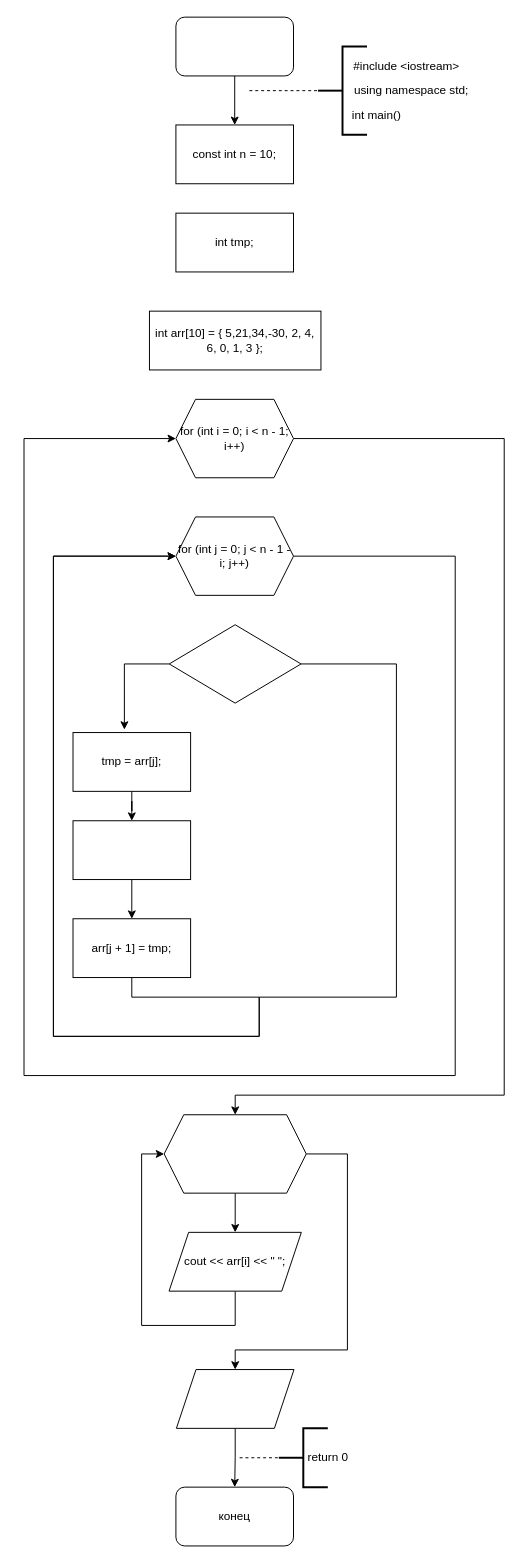
This 529x1563 diagram has some shape labels left out. Here are the shapes that lost their labels. From the top down, the centre of each, then its label:
(234,46): начало
(234,663): if (arr[j] > arr[j + 1])
(131,850): arr[j] = arr[j + 1];
(234,1153): for (int i = 0; i < n; i++)
(234,1398): cout << endl;
